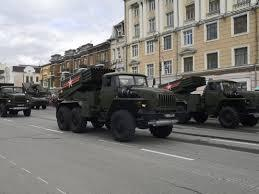MIL_SAM_TEL: (51, 67, 178, 141), (156, 76, 259, 131), (0, 82, 33, 116), (21, 82, 49, 111)
